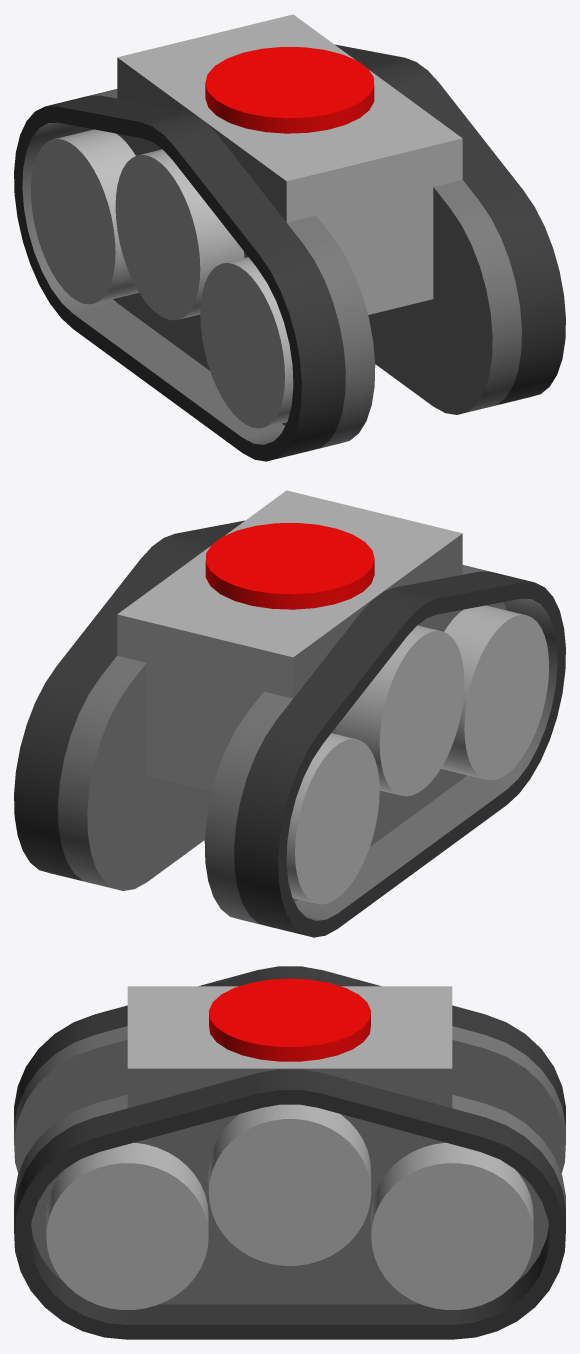
Rendered from TankyTreads.fbx.
3 views of the same model, one above another, from view 1: azimuth 30°, elevation 25°; view 2: azimuth 150°, elevation 25°; view 3: azimuth 270°, elevation 25° (orthographic). The views are drawn at different scales.
Parts seen in each view (by area): view 1: Tracks v1; view 2: Tracks v1; view 3: Tracks v1.
Part boxes in pixels (x1,y1,x2,y2): Tracks v1: (14,14,565,461); Tracks v1: (14,490,565,937); Tracks v1: (14,966,565,1339).
Bounding box in the file's own units: 90 × 90 × 170.
